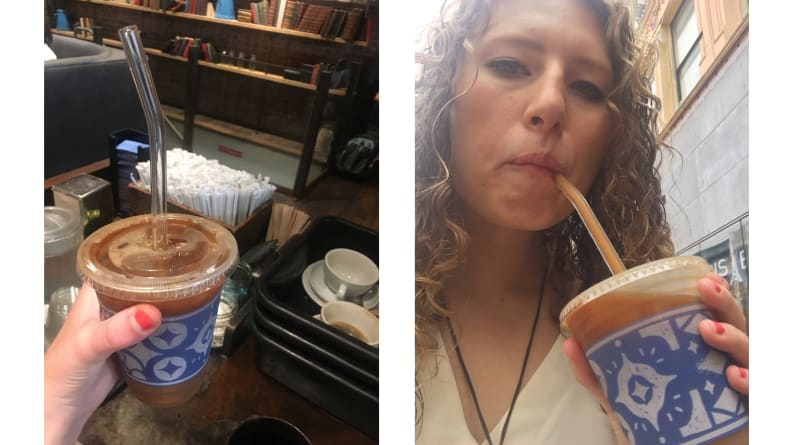drinking: (427, 9, 741, 418)
